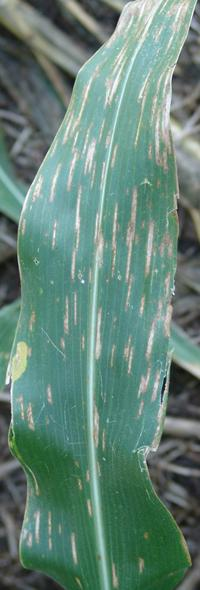Corn Gray leaf spot: (11, 3, 196, 590)
